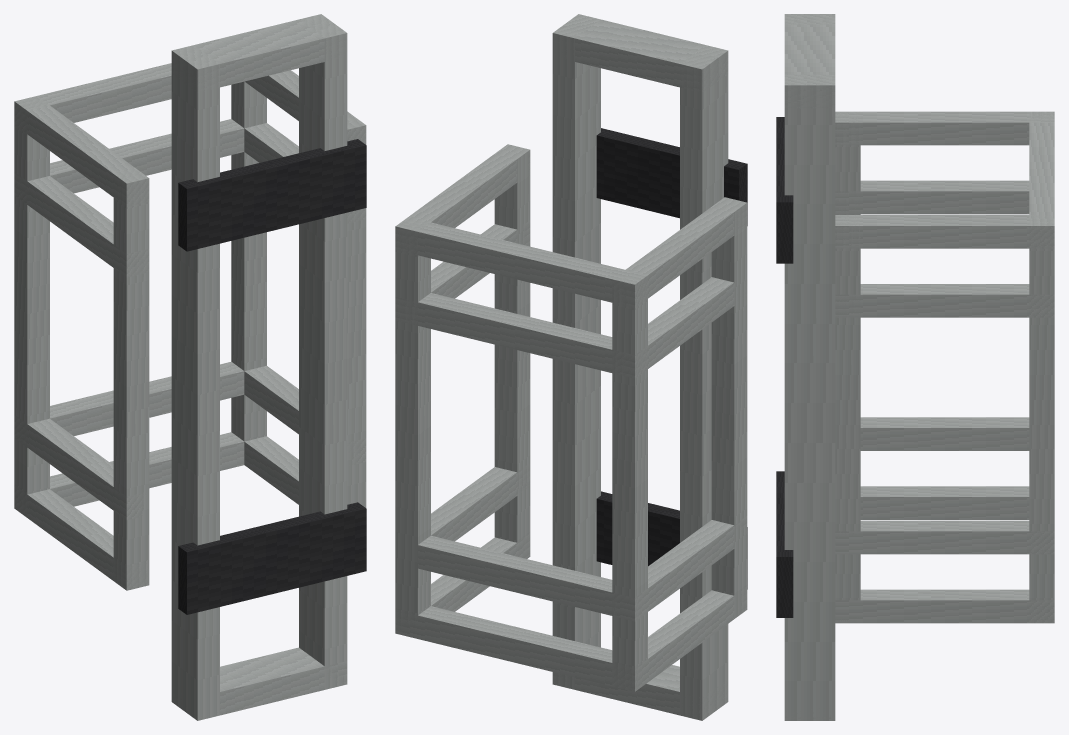
The model's file is mount_sce_3_center.obj.
3 renders of one model, left to right at view 1: azimuth 30°, elevation 25°; view 2: azimuth 150°, elevation 25°; view 3: azimuth 270°, elevation 25°, orthographic. The views are drawn at different scales.
Parts seen in each view (by area): view 1: transformer_bank_mount_sce_3_center; view 2: transformer_bank_mount_sce_3_center; view 3: transformer_bank_mount_sce_3_center.
Part boxes in pixels (box(x1,y1,x2,y2)): transformer_bank_mount_sce_3_center: box(14, 14, 366, 720); transformer_bank_mount_sce_3_center: box(395, 14, 747, 720); transformer_bank_mount_sce_3_center: box(776, 14, 1054, 720).
Size of the model in its own units: 1 by 2.6 by 1.03.
